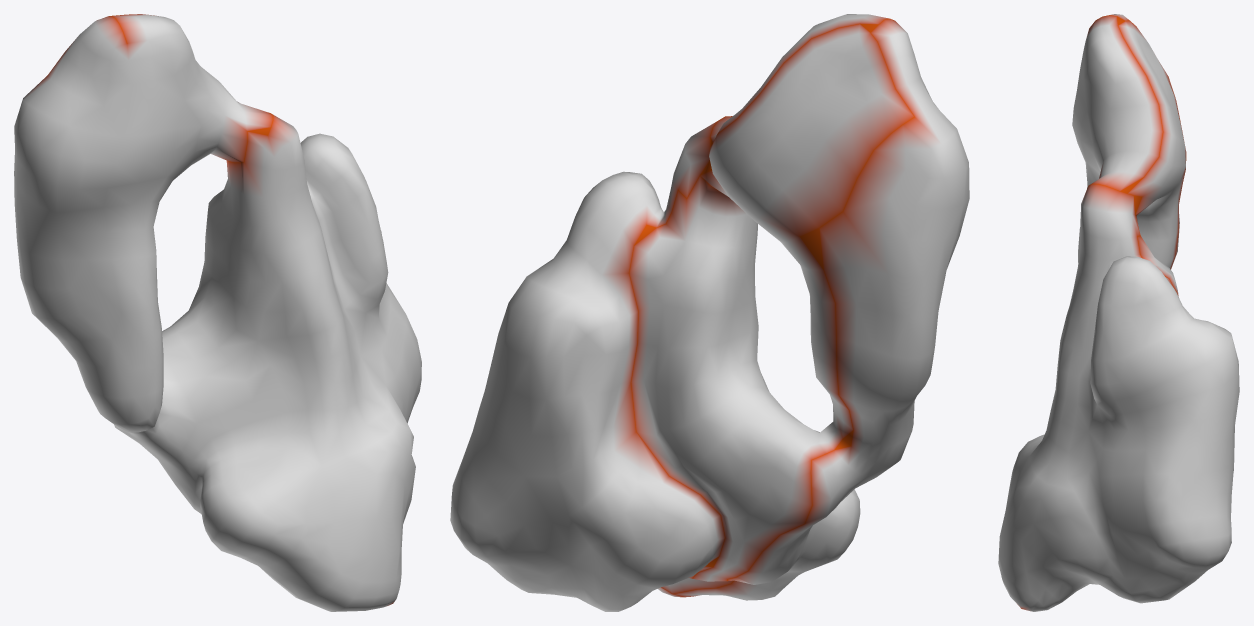
The model's file is SM_Portal2.fbx.
3 views of the same model, side by side, from view 1: azimuth 30°, elevation 25°; view 2: azimuth 150°, elevation 25°; view 3: azimuth 270°, elevation 25° (orthographic). The views are drawn at different scales.
Parts seen in each view (by area): view 1: Object009_SeamsColor; view 2: Object009_SeamsColor; view 3: Object009_SeamsColor.
Part boxes in pixels (x1,y1,x2,y2): Object009_SeamsColor: (14, 14, 421, 611); Object009_SeamsColor: (450, 14, 969, 611); Object009_SeamsColor: (998, 14, 1239, 611).
Bounding box in the file's own units: 8.73 × 11.93 × 5.16.
